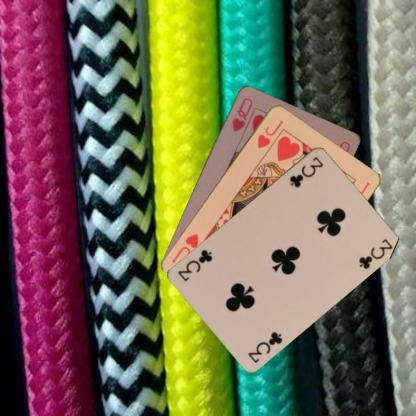3c: (245, 328, 284, 364), (286, 154, 324, 189)
Jh: (254, 117, 286, 149)
Qh: (229, 95, 254, 133)
